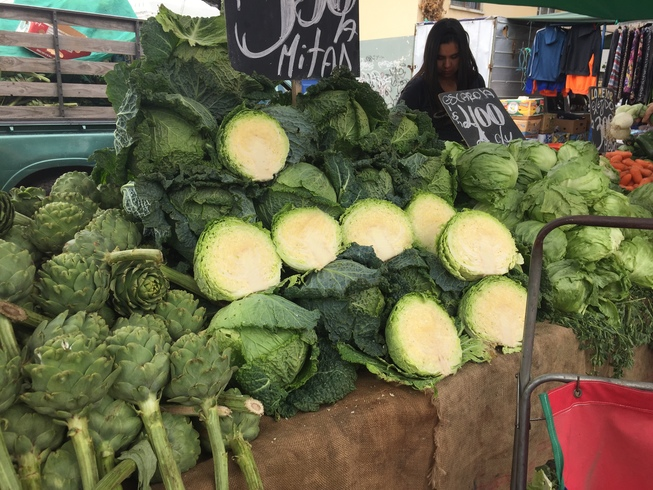precio: (220, 1, 366, 97), (432, 81, 529, 159)
